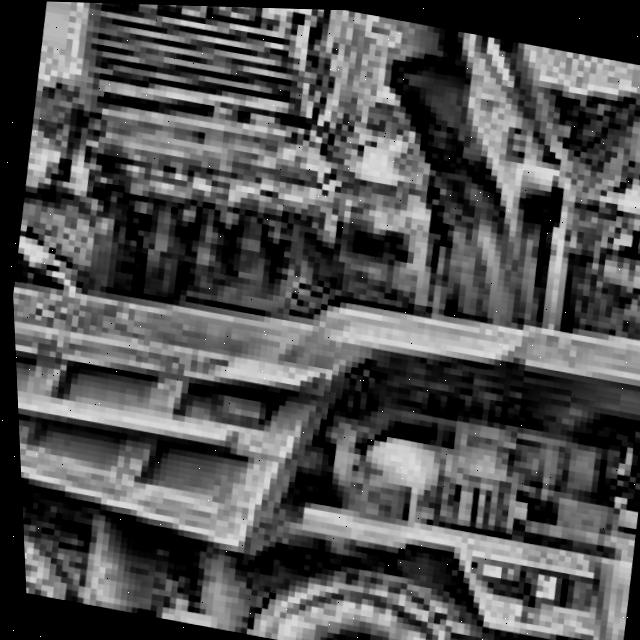dump_truck: (8, 218, 640, 640)
